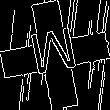M_S: (28, 26, 82, 84)
